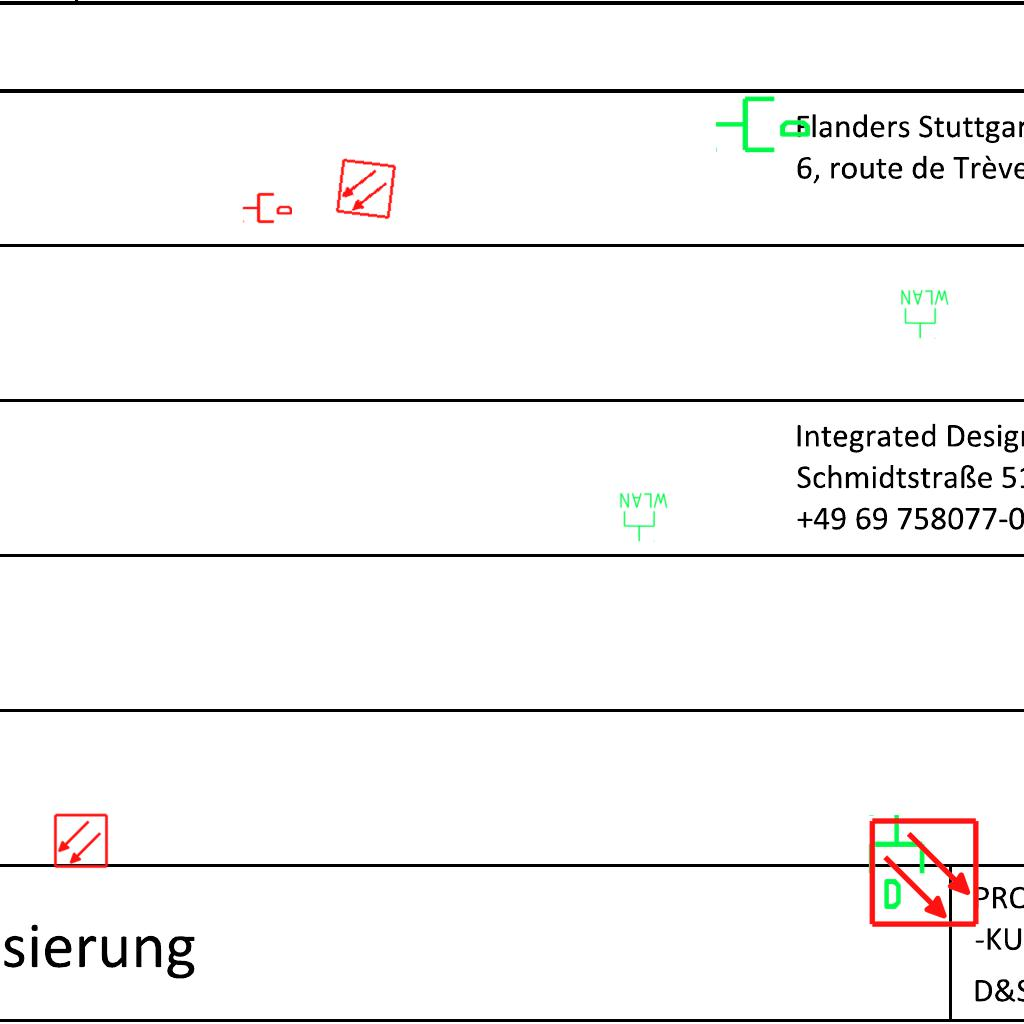Datenanschluss_einfach: (713, 88, 813, 157), (864, 812, 933, 912), (242, 191, 292, 225)
RMO_Rauchmelder_optischer: (868, 816, 981, 929), (334, 157, 398, 221), (53, 813, 109, 869)
WLAN: (899, 288, 951, 340), (618, 491, 670, 543)
